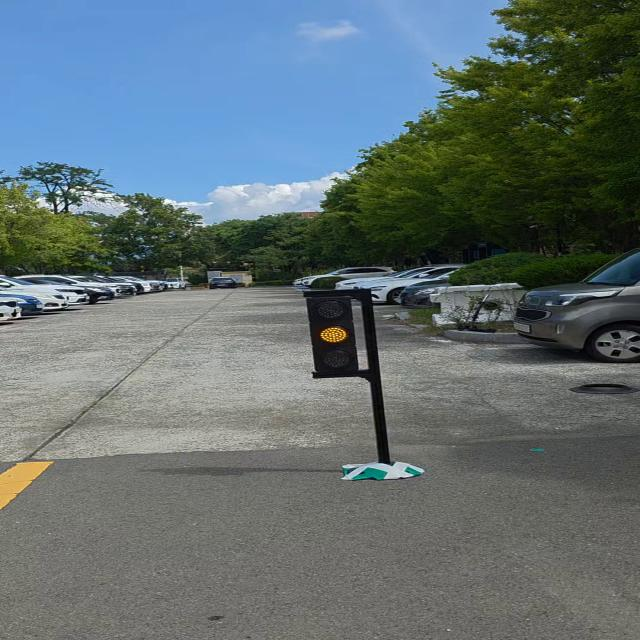yellow: (301, 289, 370, 381)
